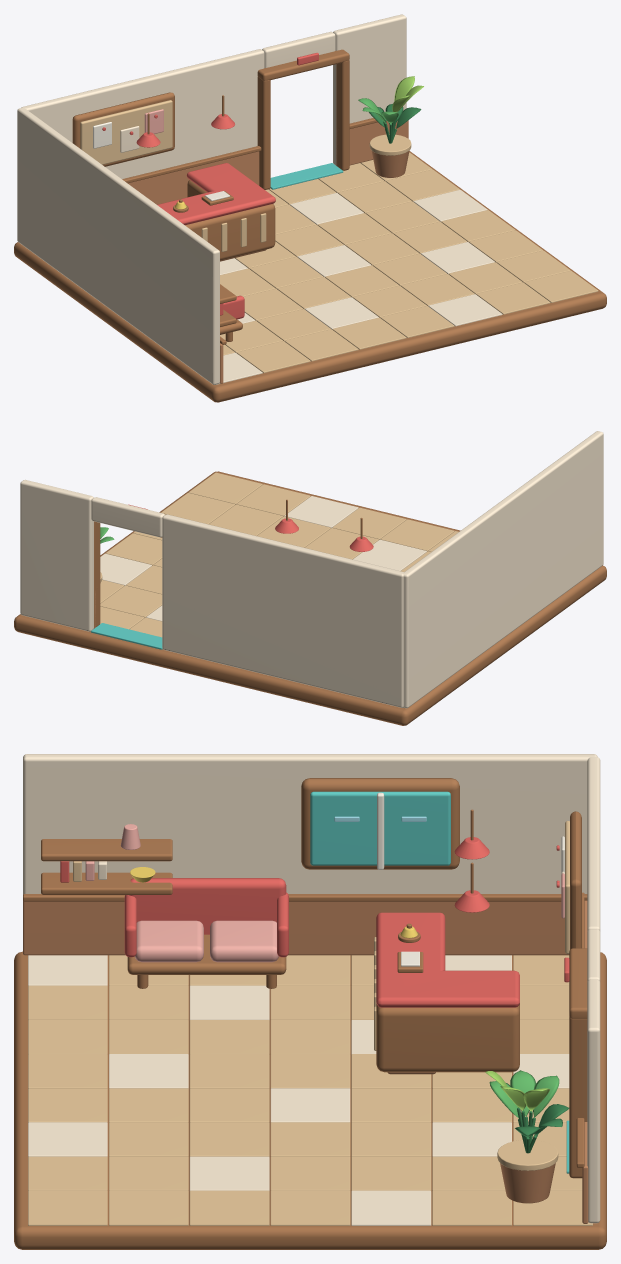
Rendered from reception.glb.
3 views of the same model, one above another, from view 1: azimuth 30°, elevation 25°; view 2: azimuth 150°, elevation 25°; view 3: azimuth 270°, elevation 25° (orthographic). The views are drawn at different scales.
Parts seen in each view (by area): view 1: ITReception_Left wall, ITReception_Back left, ITReception_Floating plinth, ITReception_Back right, ITReception_Coral counter crown, ITReception_Noticeboard inset, ITReception_L counter warm carcass, ITReception_Back left lower band, ITReception_Door jamb.001, ITReception_Door lintel wall, ITReception_Door jamb, ITReception_Noticeboard frame (+45 smaller); view 2: ITReception_Back left, ITReception_Left wall, ITReception_Floating plinth, ITReception_Back right, ITReception_Door lintel wall, ITReception_Tile 3-0, ITReception_Tile 7-0, ITReception_Tile 5-0, ITReception_Tile 6-1, ITReception_Tile 7-1, ITReception_Tile 4-0, ITReception_Tile 6-0 (+11 smaller); view 3: ITReception_Left wall, ITReception_Floating plinth, ITReception_Left lower band, ITReception_Blue inset glass, ITReception_L counter warm carcass, ITReception_Coral counter crown, ITReception_Upholstered back, ITReception_Rounded window frame, ITReception_Back right, ITReception_Tile 7-2, ITReception_Tile 7-3, ITReception_Tile 7-4 (+66 smaller).
Boxes of the visible parts, bbox=[...] form: ITReception_Left wall: bbox=[17, 107, 219, 384]; ITReception_Back left: bbox=[21, 49, 264, 178]; ITReception_Floating plinth: bbox=[14, 151, 606, 402]; ITReception_Back right: bbox=[333, 14, 406, 165]; ITReception_Coral counter crown: bbox=[157, 163, 275, 225]; ITReception_Noticeboard inset: bbox=[80, 100, 172, 164]; ITReception_L counter warm carcass: bbox=[185, 180, 275, 260]; ITReception_Back left lower band: bbox=[128, 151, 259, 204]; ITReception_Door jamb.001: bbox=[336, 60, 349, 170]; ITReception_Door lintel wall: bbox=[262, 31, 335, 67]; ITReception_Door jamb: bbox=[257, 77, 270, 189]; ITReception_Noticeboard frame: bbox=[72, 92, 174, 166]; ITReception_Back left: bbox=[162, 514, 403, 707]; ITReception_Left wall: bbox=[403, 431, 603, 708]; ITReception_Floating plinth: bbox=[14, 471, 606, 725]; ITReception_Back right: bbox=[20, 479, 93, 631]; ITReception_Door lintel wall: bbox=[91, 497, 164, 537]; ITReception_Tile 3-0: bbox=[380, 519, 454, 551]; ITReception_Tile 7-0: bbox=[188, 472, 262, 504]; ITReception_Tile 5-0: bbox=[284, 496, 358, 528]; ITReception_Tile 6-1: bbox=[209, 504, 282, 536]; ITReception_Tile 7-1: bbox=[161, 493, 234, 524]; ITReception_Tile 4-0: bbox=[332, 507, 406, 539]; ITReception_Tile 6-0: bbox=[236, 484, 310, 516]; ITReception_Left wall: bbox=[23, 754, 597, 894]; ITReception_Floating plinth: bbox=[14, 951, 606, 1249]; ITReception_Left lower band: bbox=[23, 901, 569, 955]; ITReception_Blue inset glass: bbox=[310, 791, 450, 865]; ITReception_L counter warm carcass: bbox=[376, 1003, 519, 1072]; ITReception_Coral counter crown: bbox=[376, 912, 519, 1007]; ITReception_Upholstered back: bbox=[129, 878, 286, 934]; ITReception_Rounded window frame: bbox=[301, 778, 459, 869]; ITReception_Back right: bbox=[587, 979, 600, 1223]; ITReception_Tile 7-2: bbox=[189, 1190, 269, 1225]; ITReception_Tile 7-3: bbox=[270, 1190, 350, 1225]; ITReception_Tile 7-4: bbox=[351, 1190, 431, 1225].
Bounding box in the file's own units: 11.1 × 4.17 × 9.9.
